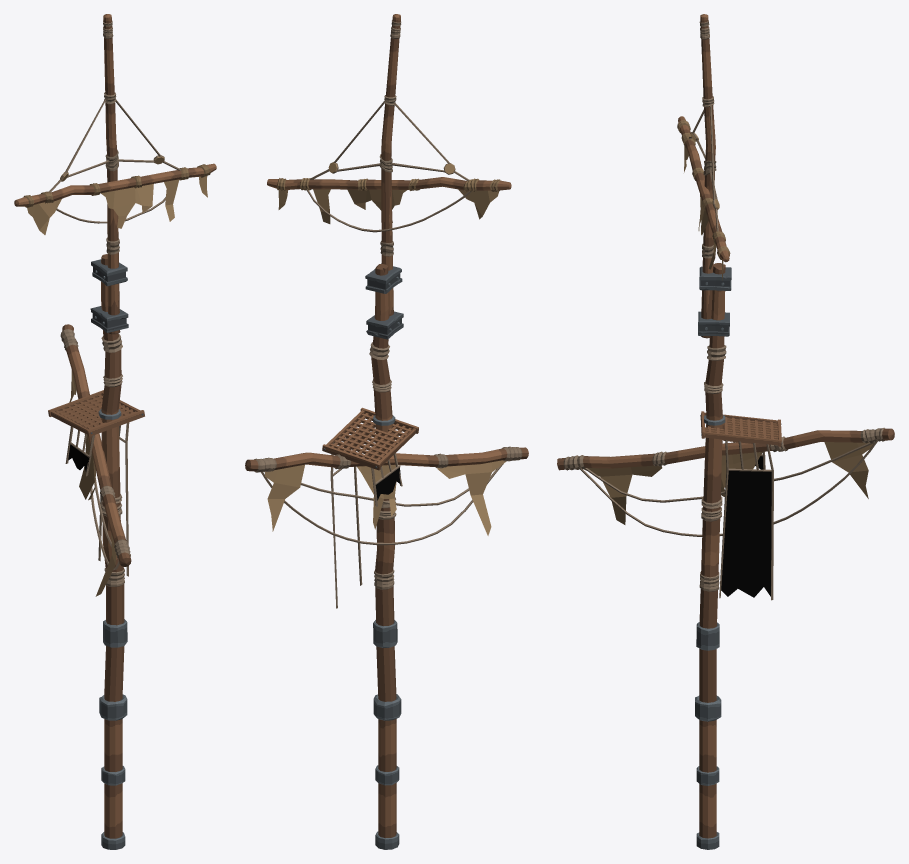
The model's file is SM_Prop_Wreck_Mast_Large_01.fbx.
3 renders of one model, left to right at view 1: azimuth 30°, elevation 25°; view 2: azimuth 150°, elevation 25°; view 3: azimuth 270°, elevation 25°, orthographic.
Visible parts, largest first — view 1: SM_Prop_Wreck_Mast_Large_01; view 2: SM_Prop_Wreck_Mast_Large_01; view 3: SM_Prop_Wreck_Mast_Large_01.
Part boxes in pixels (x1,y1,x2,y2): SM_Prop_Wreck_Mast_Large_01: [14, 14, 216, 849]; SM_Prop_Wreck_Mast_Large_01: [245, 14, 528, 849]; SM_Prop_Wreck_Mast_Large_01: [557, 14, 894, 849].
Bounding box in the file's own units: 993 × 3556 × 1316.
